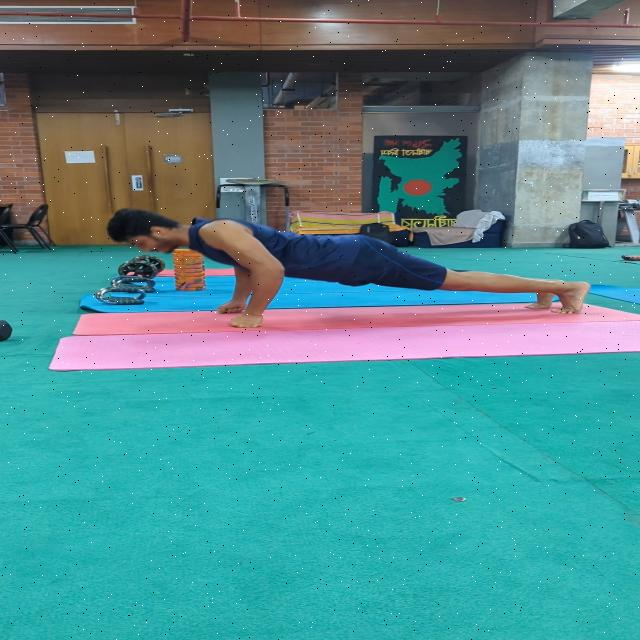Normal_PushUps: (89, 208, 598, 337)
